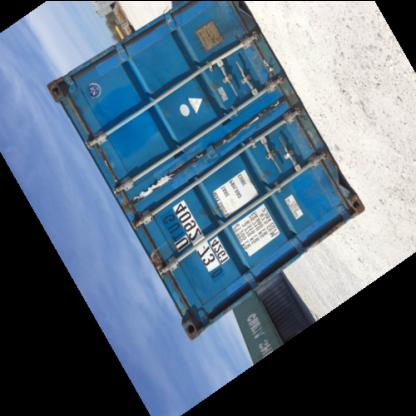Damage: (120, 168, 179, 206), (208, 115, 256, 148), (258, 42, 286, 94), (152, 241, 182, 275), (290, 110, 306, 172)
